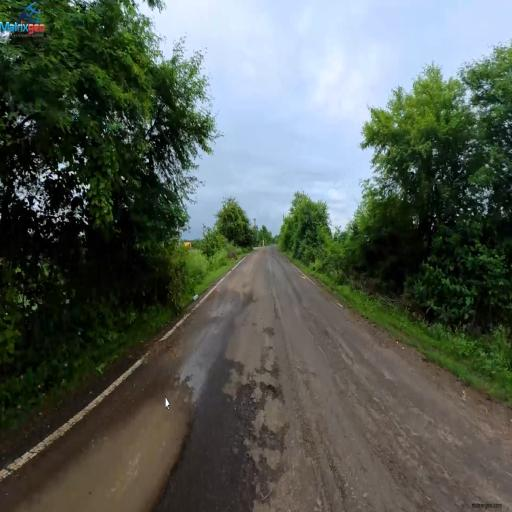pothole: (160, 356, 216, 475)
ravelling: (240, 321, 356, 486)
